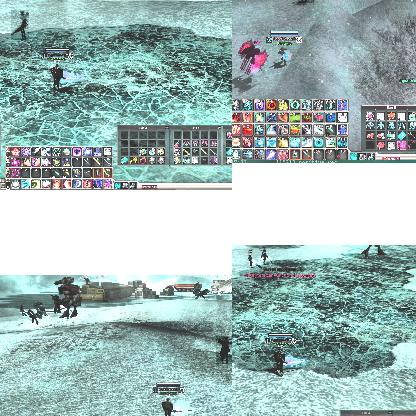caliana: (11, 10, 29, 40), (215, 336, 232, 364), (247, 249, 263, 268), (259, 246, 273, 264), (19, 302, 27, 316)
